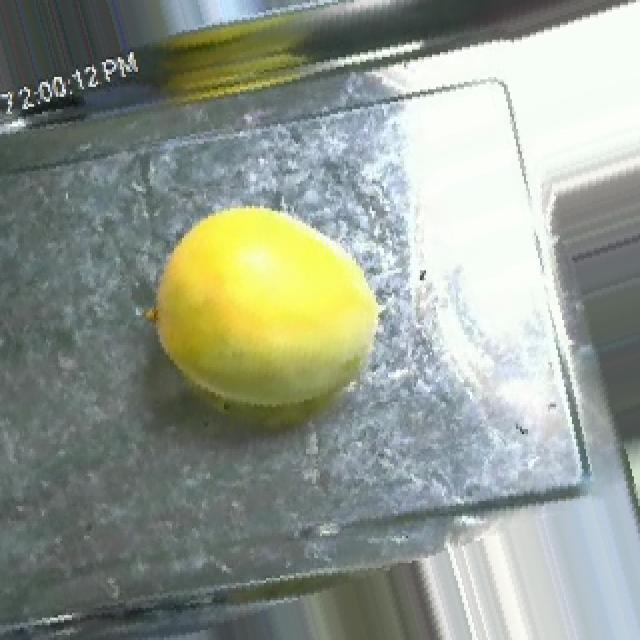fruit: (116, 169, 412, 444)
